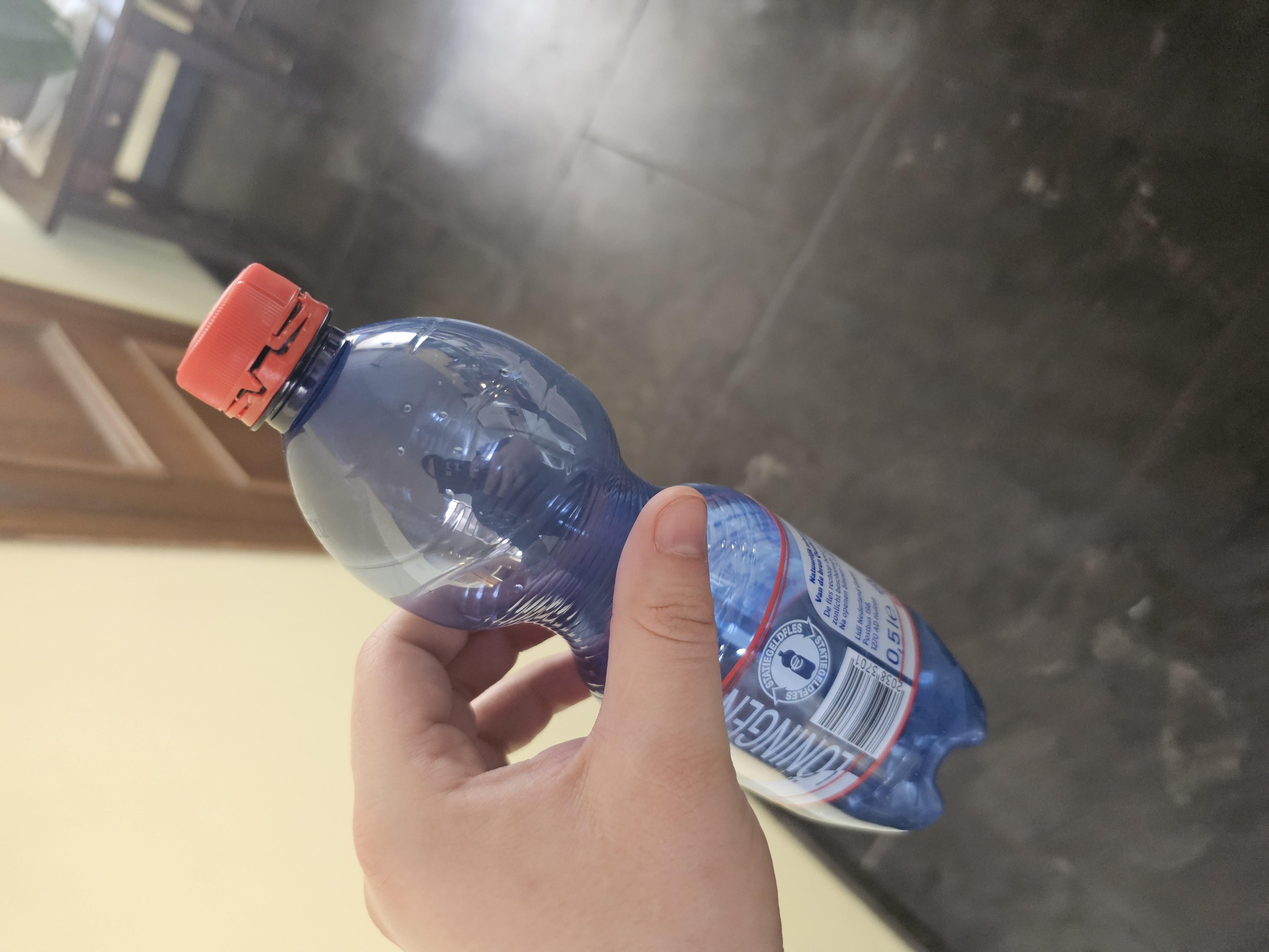Plastic: (161, 131, 924, 742)
